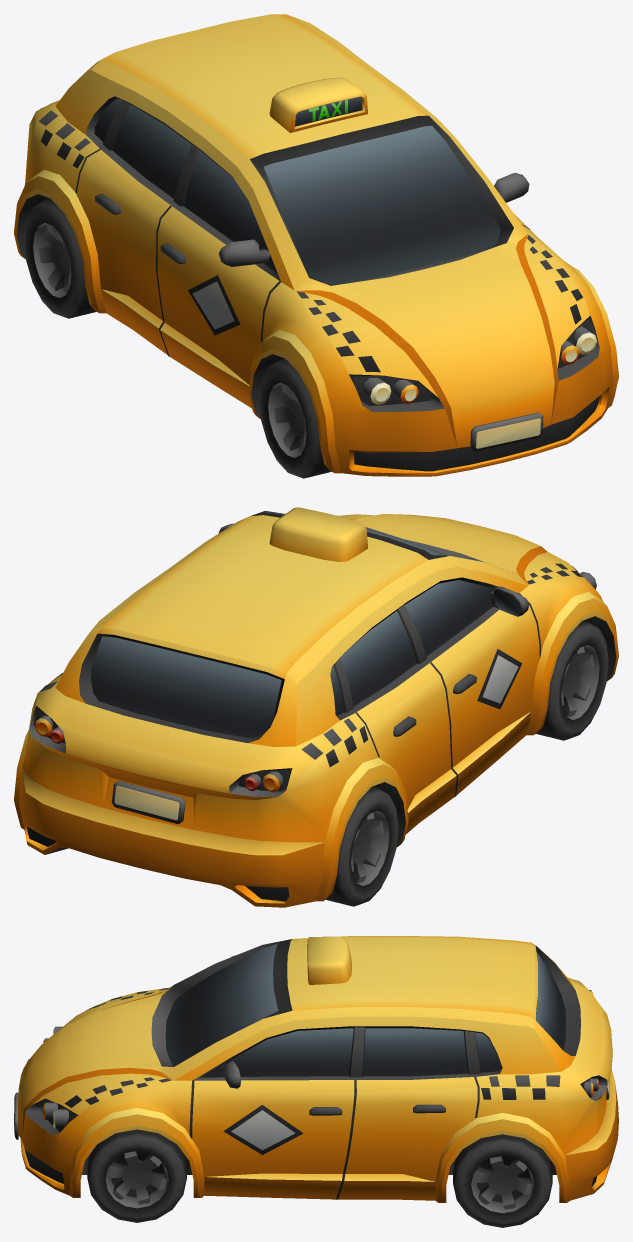
File: Car_7F.fbx
3 renders of one model, top to bottom at view 1: azimuth 30°, elevation 25°; view 2: azimuth 150°, elevation 25°; view 3: azimuth 270°, elevation 25°, orthographic. The views are drawn at different scales.
Visible parts, largest first — view 1: Car_7F, Wheel_7F_R.R, Wheel_7F_F.R, Livery_7F; view 2: Car_7F, Wheel_7F_R.R, Wheel_7F_F.R, Livery_7F; view 3: Car_7F, Wheel_7F_R.L, Wheel_7F_F.L, Livery_7F.
Boxes of the visible parts, x1=… form: Car_7F: x1=14, y1=14, x2=618, y2=476; Wheel_7F_R.R: x1=24, y1=198, x2=96, y2=318; Wheel_7F_F.R: x1=259, y1=358, x2=331, y2=478; Livery_7F: x1=188, y1=99, x2=347, y2=335; Car_7F: x1=14, y1=507, x2=618, y2=907; Wheel_7F_R.R: x1=326, y1=786, x2=398, y2=906; Wheel_7F_F.R: x1=536, y1=620, x2=608, y2=740; Livery_7F: x1=477, y1=649, x2=522, y2=709; Car_7F: x1=14, y1=936, x2=618, y2=1202; Wheel_7F_R.L: x1=453, y1=1134, x2=552, y2=1227; Wheel_7F_F.L: x1=87, y1=1129, x2=186, y2=1222; Livery_7F: x1=223, y1=1105, x2=303, y2=1154.
Bounding box in the file's own units: 2.6 × 2.04 × 5.13.
